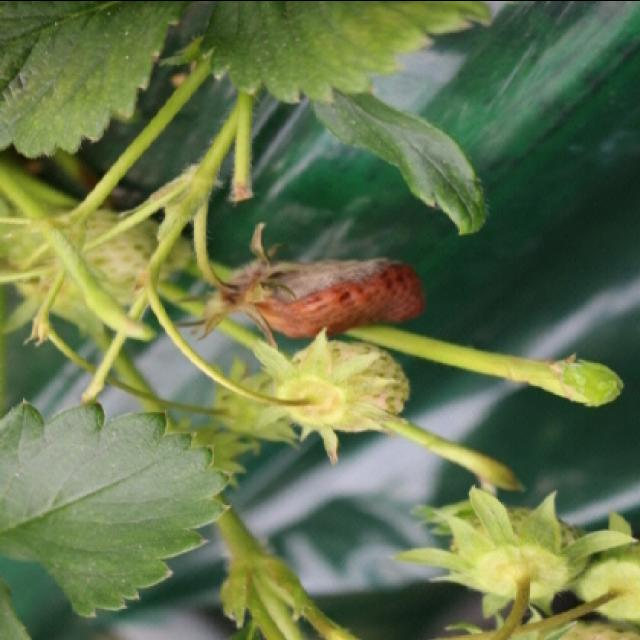Gray Mold: (196, 221, 425, 348)
